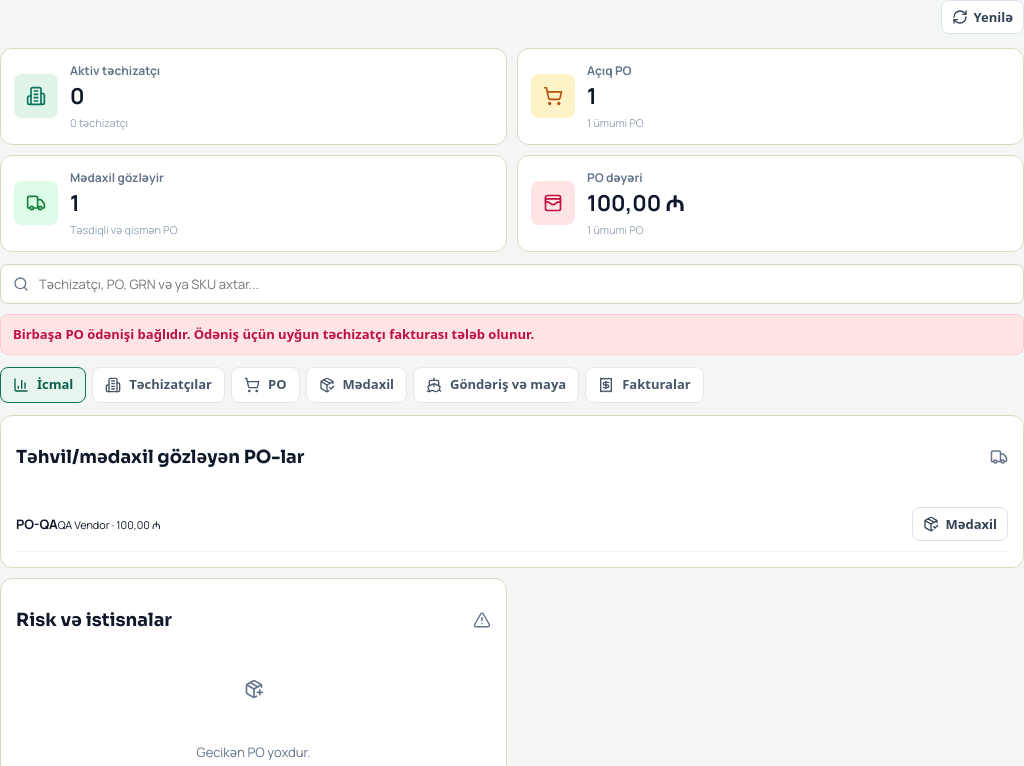
Test case: keeps an open vendor draft mounted during background reload (error=true)
Later steps or results of the test are not shown.
Click the button "Təchizatçılar" at coordinates (159, 385), box [92,367,225,403]
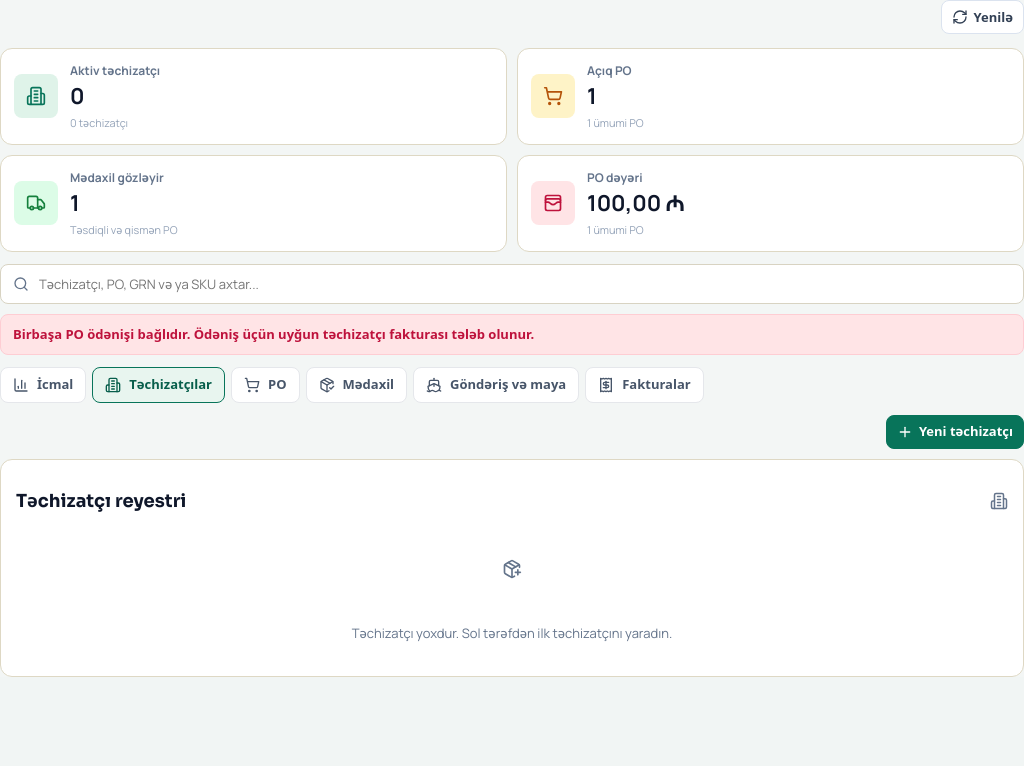
Click the button "Yeni təchizatçı" at coordinates (955, 432), box [886,415,1023,449]
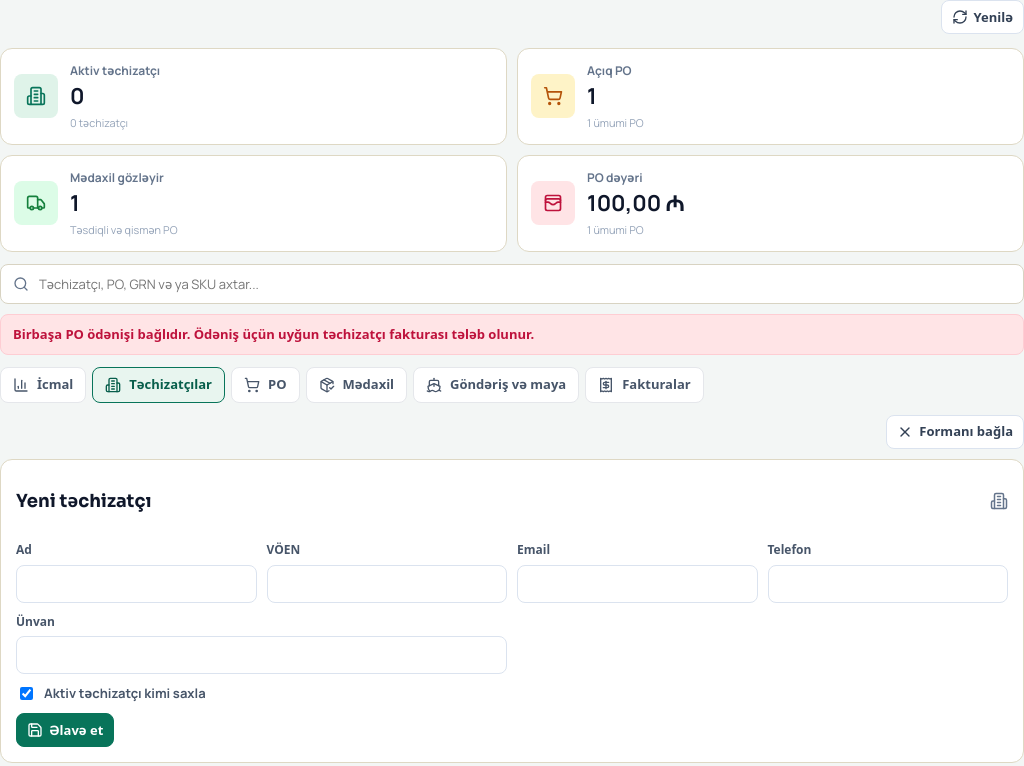
Type "Unsaved vendor draft" into the field labelled "Ad" at coordinates (136, 584), box [16,564,256,602]
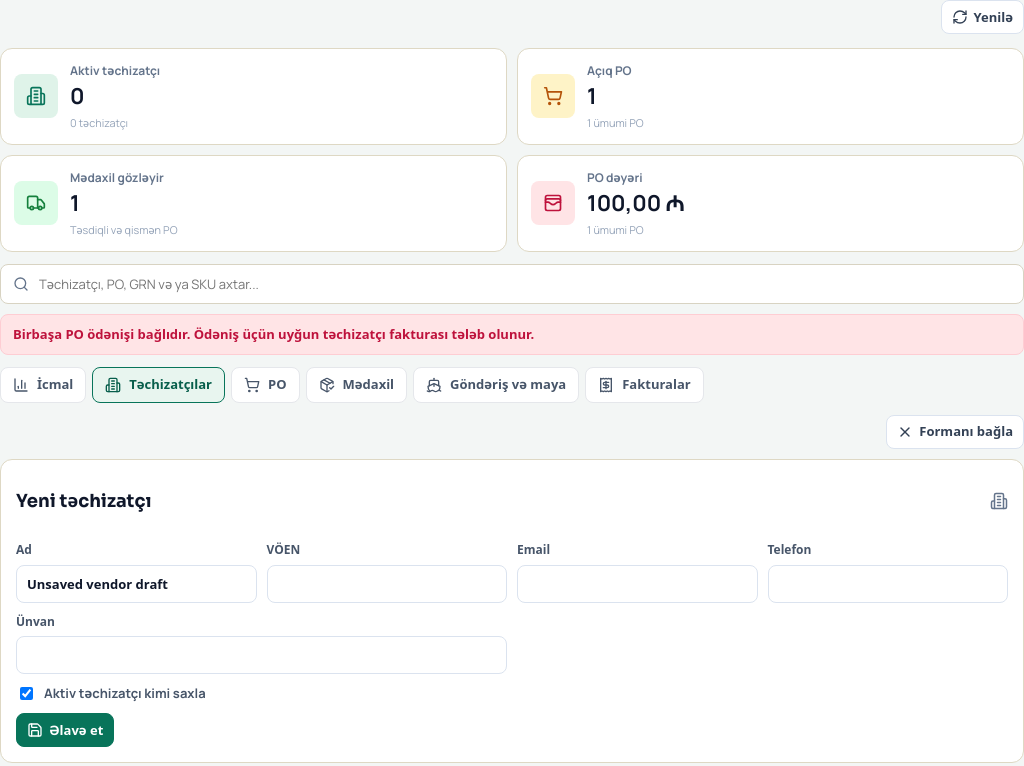
Click the button "Yenilə" at coordinates (982, 17), box [941,0,1023,34]
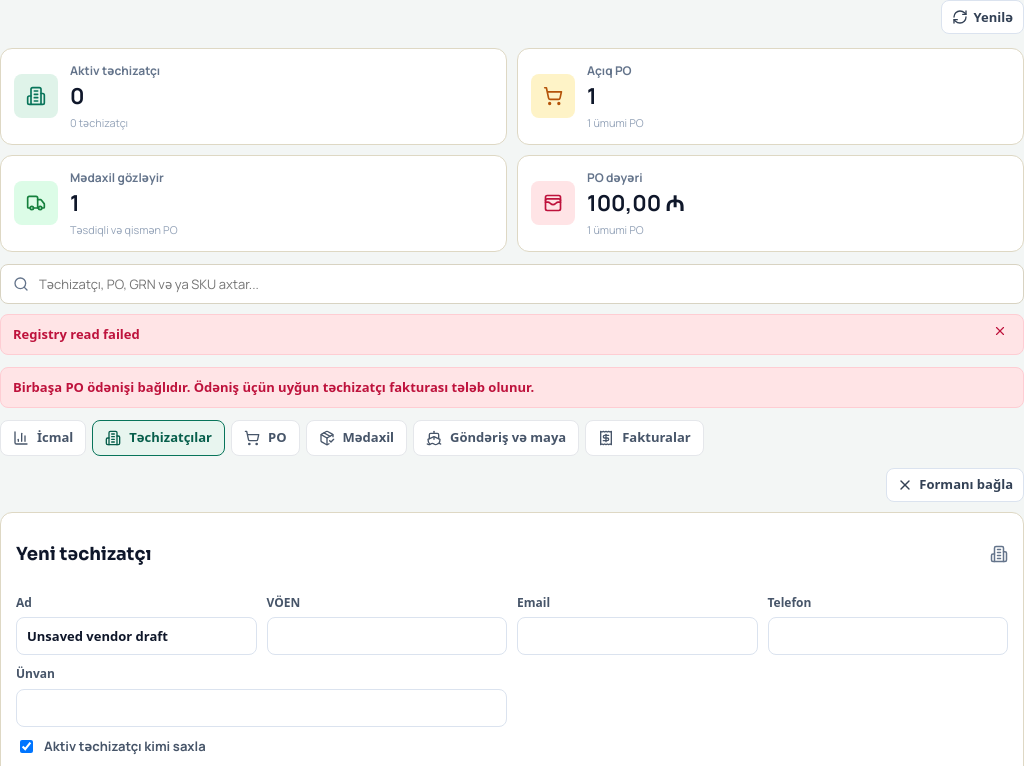
Now the text "Registry read failed" is shown, box [0,314,1023,355]
